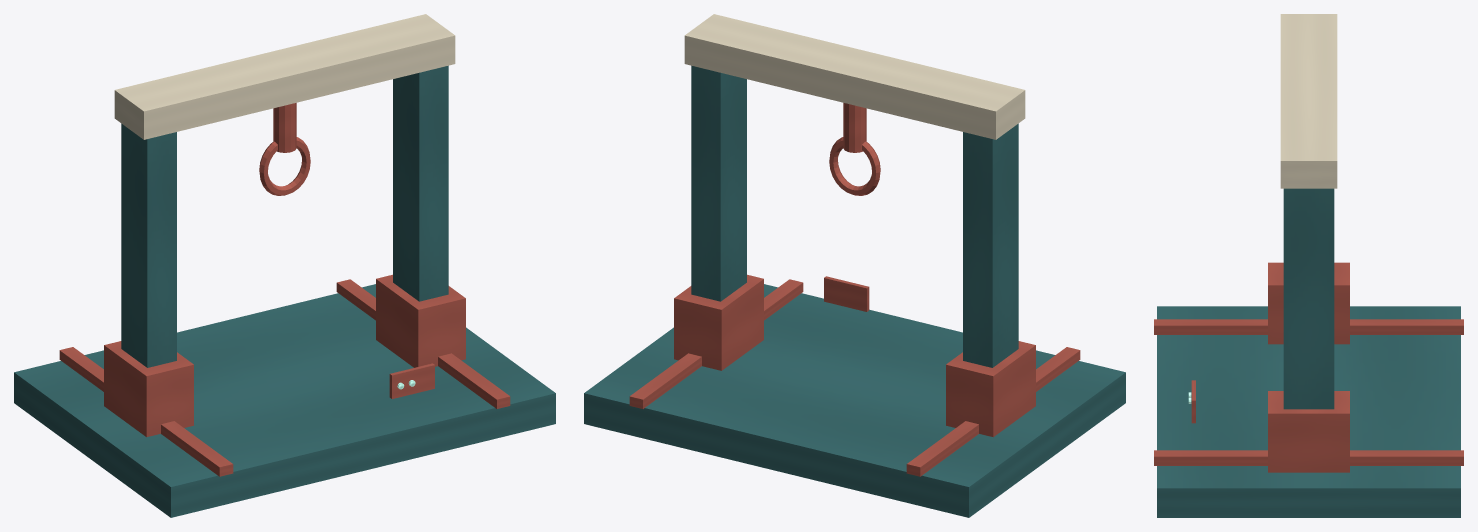
Rendered from atlas100-s038-a02.glb.
3 views of the same model, side by side, from view 1: azimuth 30°, elevation 25°; view 2: azimuth 150°, elevation 25°; view 3: azimuth 270°, elevation 25° (orthographic). The views are drawn at different scales.
Visible parts, largest first — view 1: atlas100-s038-a02:part-000, atlas100-s038-a02:part-007, atlas100-s038-a02:part-003, atlas100-s038-a02:part-005, atlas100-s038-a02:part-004, atlas100-s038-a02:part-006, atlas100-s038-a02:part-001, atlas100-s038-a02:part-002, atlas100-s038-a02:part-009, atlas100-s038-a02:part-010, atlas100-s038-a02:part-008; view 2: atlas100-s038-a02:part-000, atlas100-s038-a02:part-007, atlas100-s038-a02:part-003, atlas100-s038-a02:part-005, atlas100-s038-a02:part-006, atlas100-s038-a02:part-004, atlas100-s038-a02:part-001, atlas100-s038-a02:part-002, atlas100-s038-a02:part-009, atlas100-s038-a02:part-010, atlas100-s038-a02:part-008; view 3: atlas100-s038-a02:part-000, atlas100-s038-a02:part-005, atlas100-s038-a02:part-007, atlas100-s038-a02:part-006, atlas100-s038-a02:part-001, atlas100-s038-a02:part-002, atlas100-s038-a02:part-004.
Part boxes in pixels (x1,y1,x2,y2): atlas100-s038-a02:part-000: (14, 284, 555, 517); atlas100-s038-a02:part-007: (114, 14, 455, 139); atlas100-s038-a02:part-003: (121, 123, 176, 367); atlas100-s038-a02:part-005: (393, 65, 448, 301); atlas100-s038-a02:part-004: (104, 341, 193, 437); atlas100-s038-a02:part-006: (376, 274, 465, 367); atlas100-s038-a02:part-001: (59, 347, 233, 476); atlas100-s038-a02:part-002: (336, 279, 510, 408); atlas100-s038-a02:part-009: (259, 137, 310, 195); atlas100-s038-a02:part-010: (389, 363, 434, 398); atlas100-s038-a02:part-008: (273, 103, 296, 152); atlas100-s038-a02:part-000: (584, 284, 1125, 517); atlas100-s038-a02:part-007: (684, 14, 1025, 139); atlas100-s038-a02:part-003: (963, 123, 1018, 367); atlas100-s038-a02:part-005: (691, 65, 746, 301); atlas100-s038-a02:part-006: (674, 274, 763, 370); atlas100-s038-a02:part-004: (946, 341, 1035, 437); atlas100-s038-a02:part-001: (906, 347, 1080, 476); atlas100-s038-a02:part-002: (629, 279, 803, 408); atlas100-s038-a02:part-009: (829, 137, 880, 195); atlas100-s038-a02:part-010: (824, 276, 869, 311); atlas100-s038-a02:part-008: (843, 103, 866, 152); atlas100-s038-a02:part-000: (1157, 306, 1460, 517); atlas100-s038-a02:part-005: (1283, 188, 1334, 409); atlas100-s038-a02:part-007: (1280, 14, 1337, 188); atlas100-s038-a02:part-006: (1268, 391, 1349, 472); atlas100-s038-a02:part-001: (1154, 319, 1463, 334); atlas100-s038-a02:part-002: (1154, 450, 1463, 465); atlas100-s038-a02:part-004: (1268, 262, 1349, 344).
Bounding box in the file's own units: 3.4 × 2.96 × 2.45.
4 materials, 4 textured.
